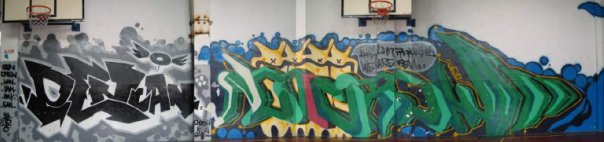graffity: (197, 23, 602, 142), (17, 35, 211, 142)
